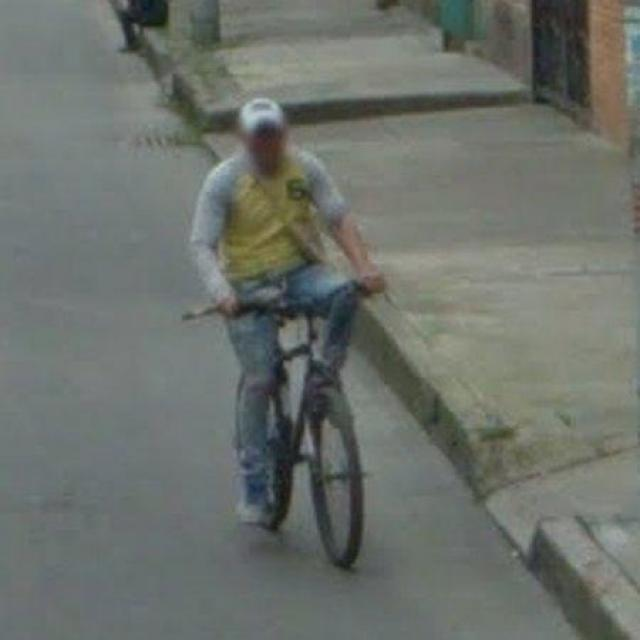bicycle: (244, 301, 366, 571)
